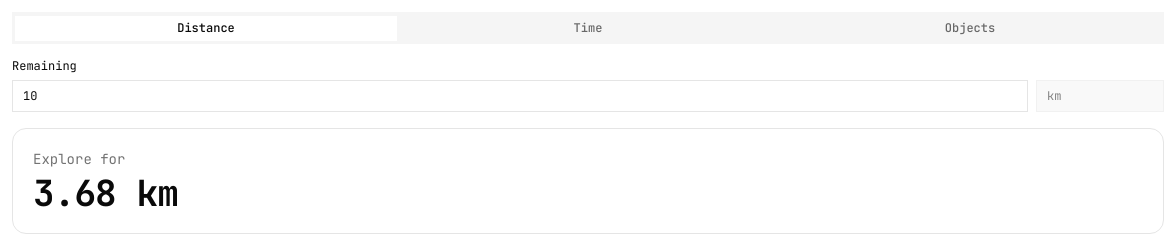
Test: StopCalculator › should include the entered name in the stopping object count
Click the tab "Objects" at [970, 28], box [779, 16, 1161, 40]
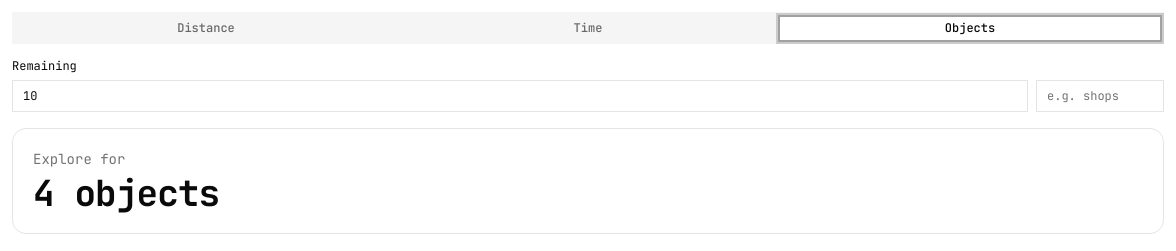
Type "shops" into the field named "What you are counting" at [1100, 96], box [1036, 80, 1164, 112]
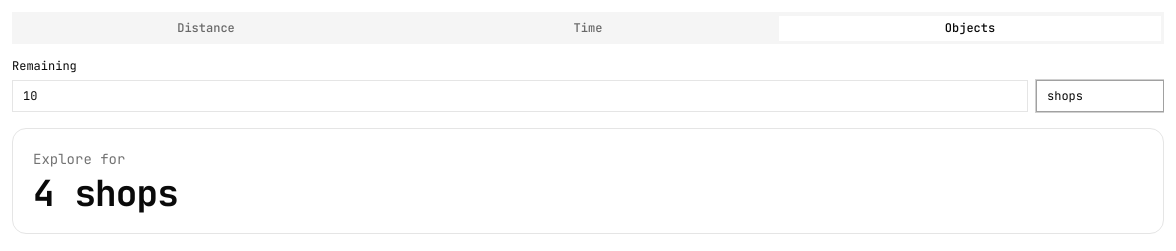
Now the text "4 shops" is shown, box [33, 169, 178, 217]
